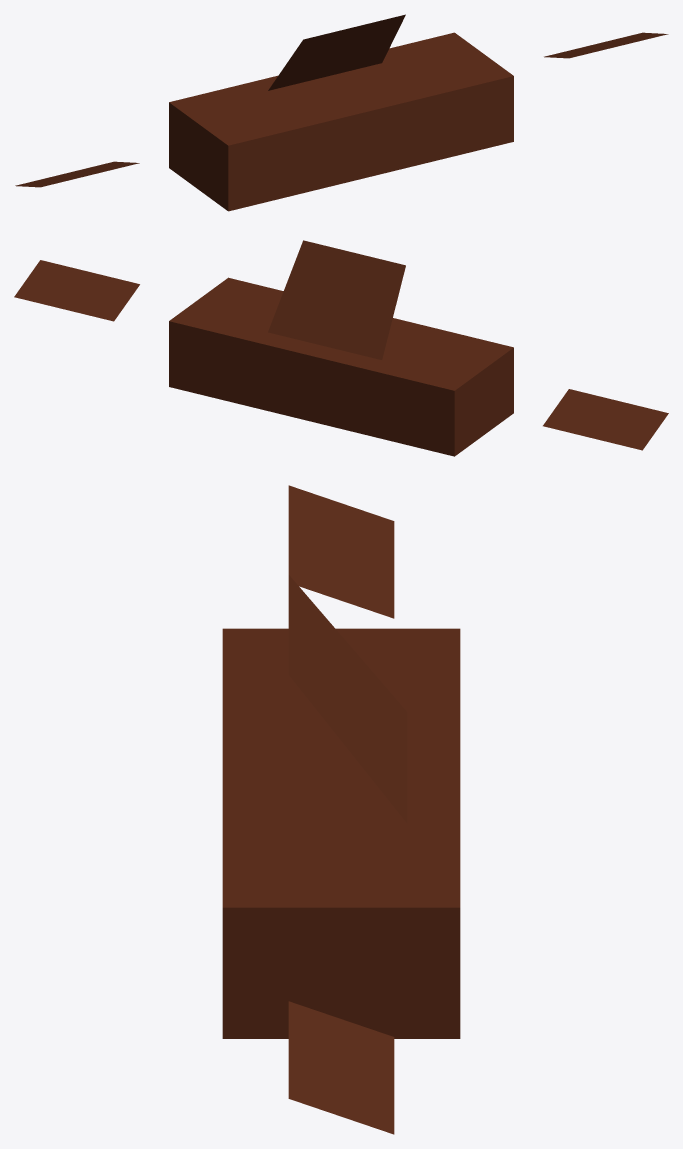
Rendered from ceiling_crawler_placeholder.obj.
The picture shows the model from 3 angles, top to bottom: view 1: azimuth 30°, elevation 25°; view 2: azimuth 150°, elevation 25°; view 3: azimuth 270°, elevation 25°; orthographic projection. The views are drawn at different scales.
Visible parts, largest first — view 1: ceiling_crawler_placeholder; view 2: ceiling_crawler_placeholder; view 3: ceiling_crawler_placeholder.
Part boxes in pixels (<box>): ceiling_crawler_placeholder: <box>15,14,668,211</box>; ceiling_crawler_placeholder: <box>14,240,668,456</box>; ceiling_crawler_placeholder: <box>222,485,460,1134</box>.
Size of the model in its own units: 2.2 by 0.46 by 0.36.
